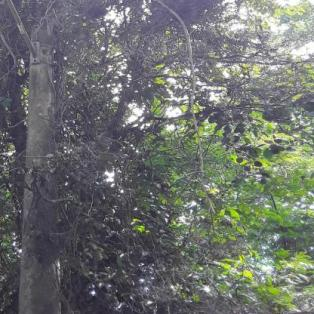Poste: (15, 0, 64, 314)
